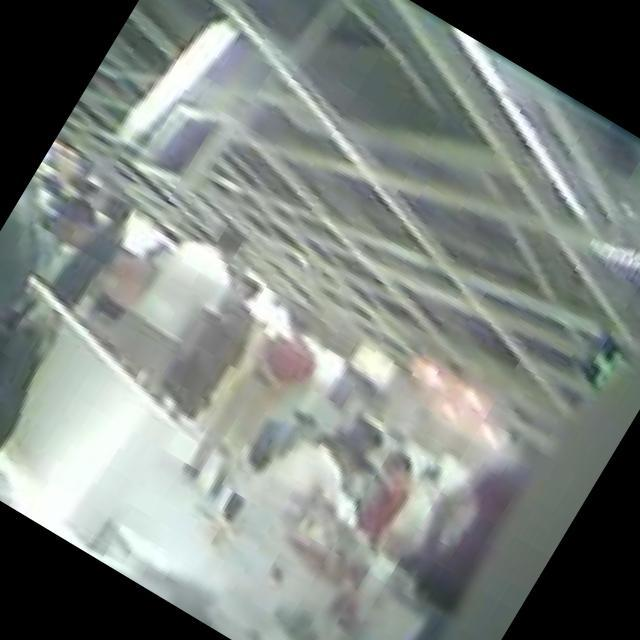person: (104, 207, 255, 395), (187, 303, 331, 494), (154, 264, 282, 426), (248, 412, 378, 552), (76, 226, 170, 342), (342, 445, 431, 552)
